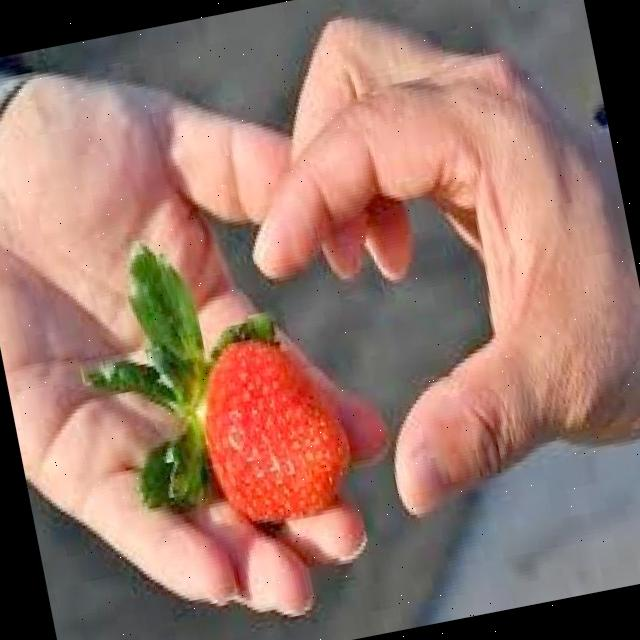strawberry: (187, 322, 360, 534)
